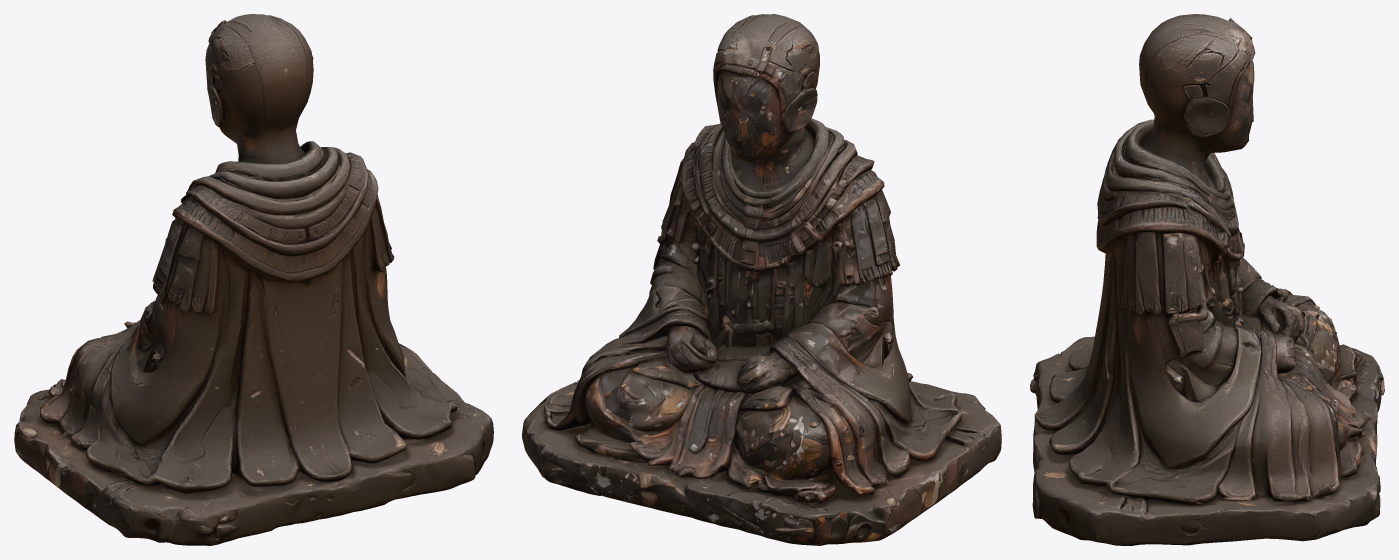
The model's file is theme-ritual-idol-v05.glb.
3 renders of one model, left to right at view 1: azimuth 30°, elevation 25°; view 2: azimuth 150°, elevation 25°; view 3: azimuth 270°, elevation 25°, orthographic.
Visible parts, largest first — view 1: tripo_node_335beb33-23fd-44e4-becf-c3af2592bccf; view 2: tripo_node_335beb33-23fd-44e4-becf-c3af2592bccf; view 3: tripo_node_335beb33-23fd-44e4-becf-c3af2592bccf.
Boxes of the visible parts, bbox=[...] form: tripo_node_335beb33-23fd-44e4-becf-c3af2592bccf: bbox=[14, 14, 493, 545]; tripo_node_335beb33-23fd-44e4-becf-c3af2592bccf: bbox=[522, 14, 1001, 545]; tripo_node_335beb33-23fd-44e4-becf-c3af2592bccf: bbox=[1030, 14, 1384, 545].
Size of the model in its own units: 0.8083 by 0.9 by 0.663.
Materials: 1 (1 with a texture image).
